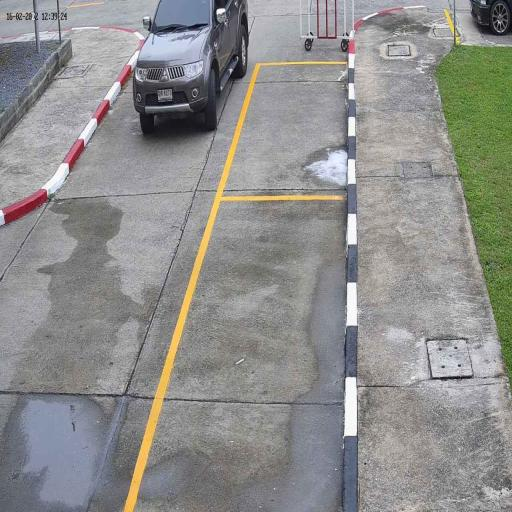car: (131, 0, 251, 136)
